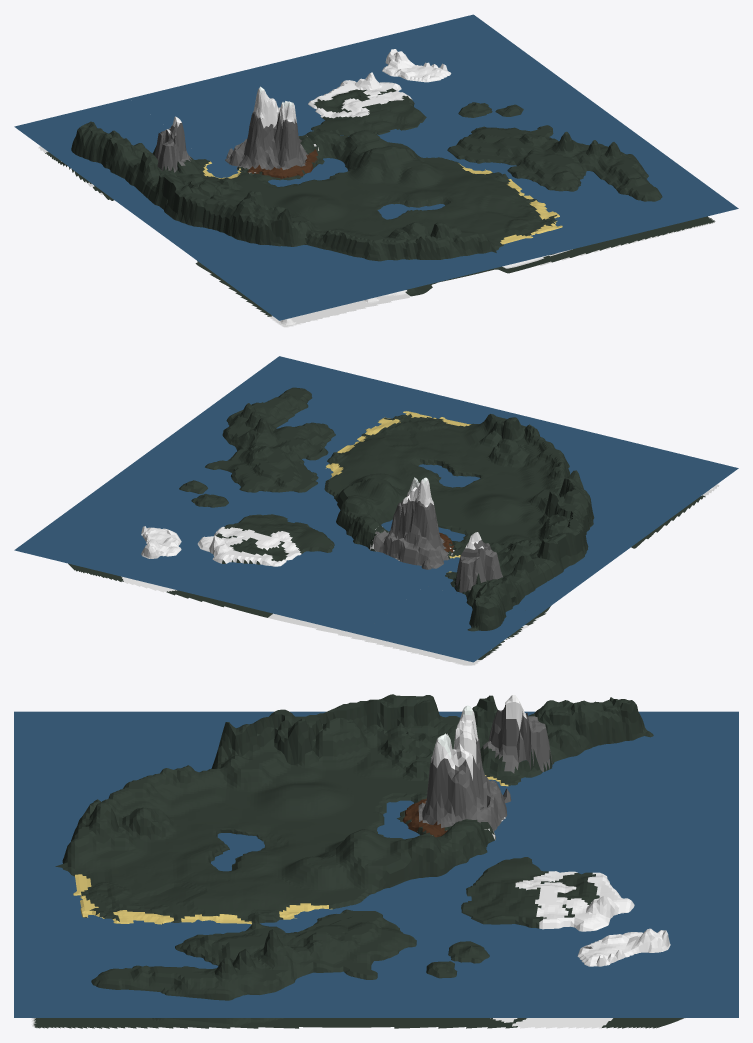
The model's file is mare foliorum 1.1.3_split patches again.glb.
3 views of the same model, one above another, from view 1: azimuth 30°, elevation 25°; view 2: azimuth 150°, elevation 25°; view 3: azimuth 270°, elevation 25° (orthographic). The views are drawn at different scales.
Parts seen in each view (by area): view 1: Sea, Land, Patch 1 sea, Patch 1 land; view 2: Sea, Land, Patch 1 sea, Patch 1 land; view 3: Sea, Land, Patch 1 sea, Patch 1 land.
Part boxes in pixels (<box>): Sea: <box>80,14,738,320</box>; Land: <box>92,49,715,327</box>; Patch 1 sea: <box>14,98,194,174</box>; Patch 1 land: <box>38,121,143,186</box>; Sea: <box>14,356,738,634</box>; Land: <box>68,387,719,642</box>; Patch 1 sea: <box>359,586,539,662</box>; Patch 1 land: <box>370,580,528,665</box>; Sea: <box>14,711,738,1017</box>; Land: <box>31,694,684,1028</box>; Patch 1 sea: <box>557,711,738,788</box>; Patch 1 land: <box>557,697,653,760</box>.
Size of the model in its own units: 106 by 20.35 by 106.
